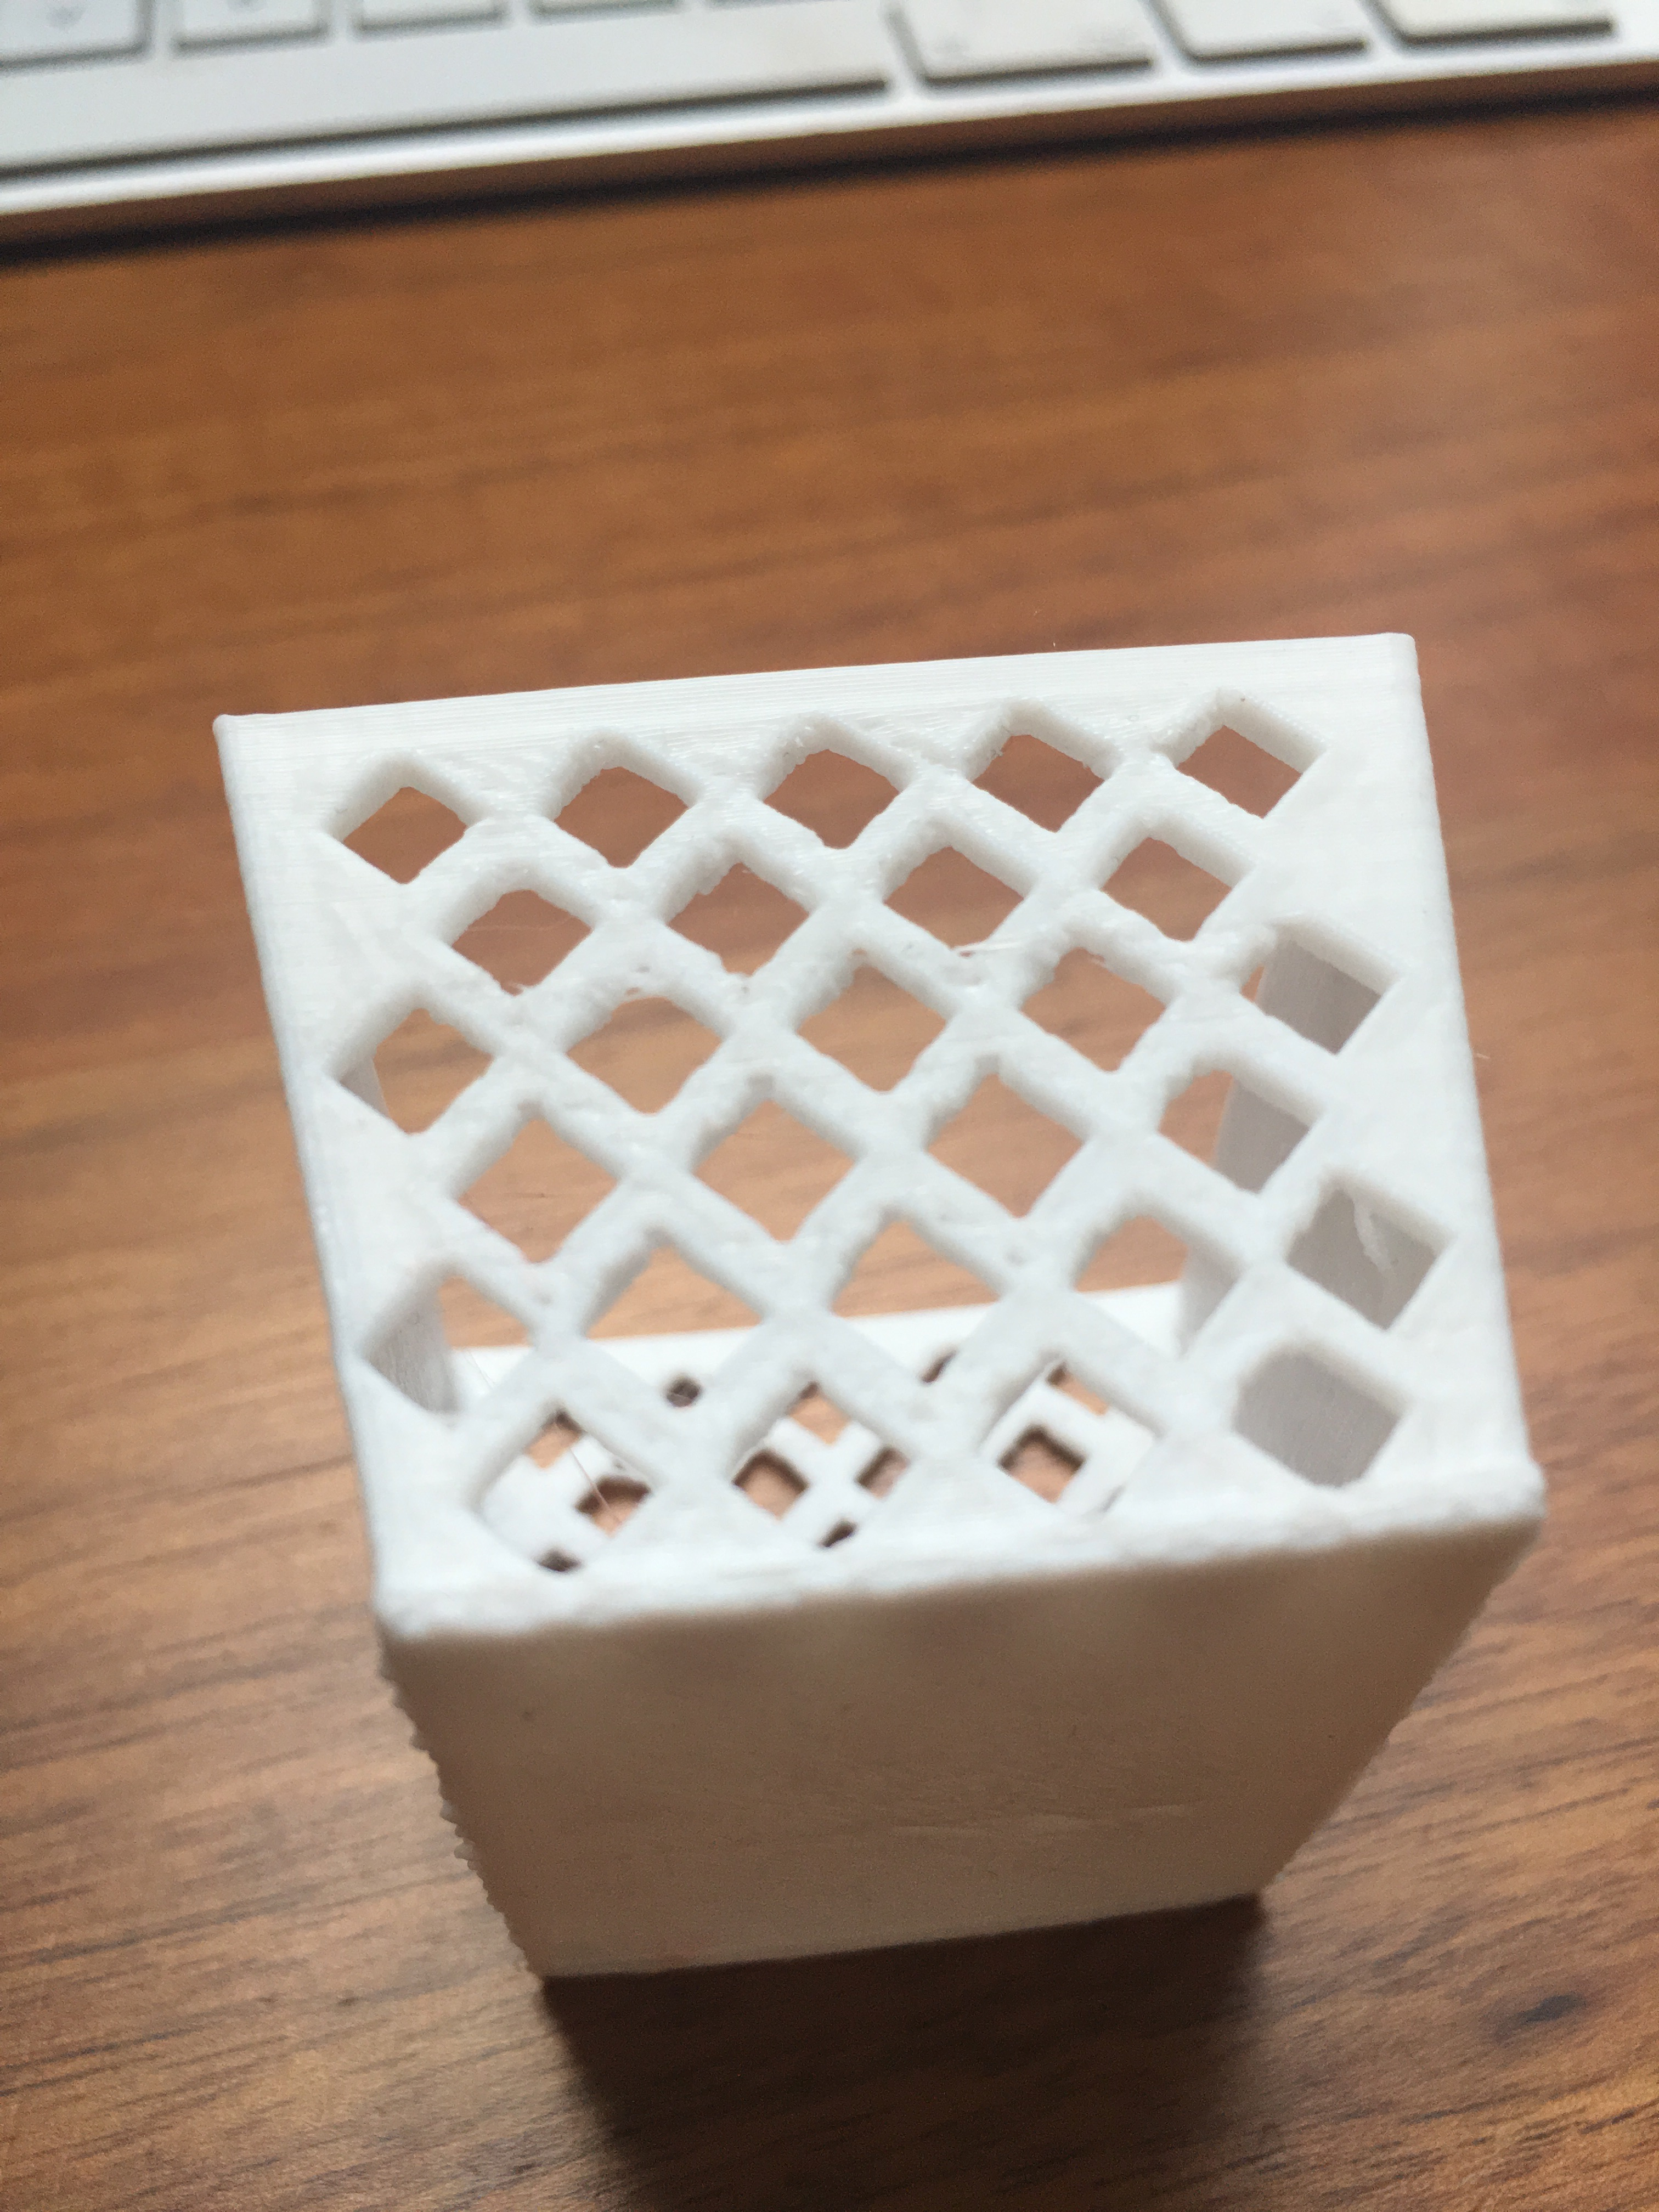3dpoverextrusion: (1127, 914, 1309, 998), (1119, 714, 1223, 813)
3dpstringing: (1290, 1179, 1438, 1280), (525, 1437, 669, 1527), (408, 1329, 519, 1428), (568, 941, 692, 1019), (342, 1035, 429, 1136), (927, 920, 1033, 981)
